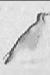G4: (5, 1, 46, 74)
